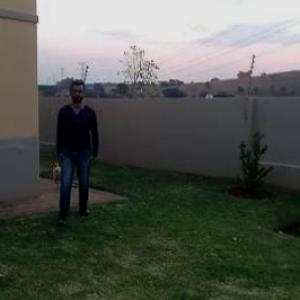follow: (48, 75, 96, 228)
